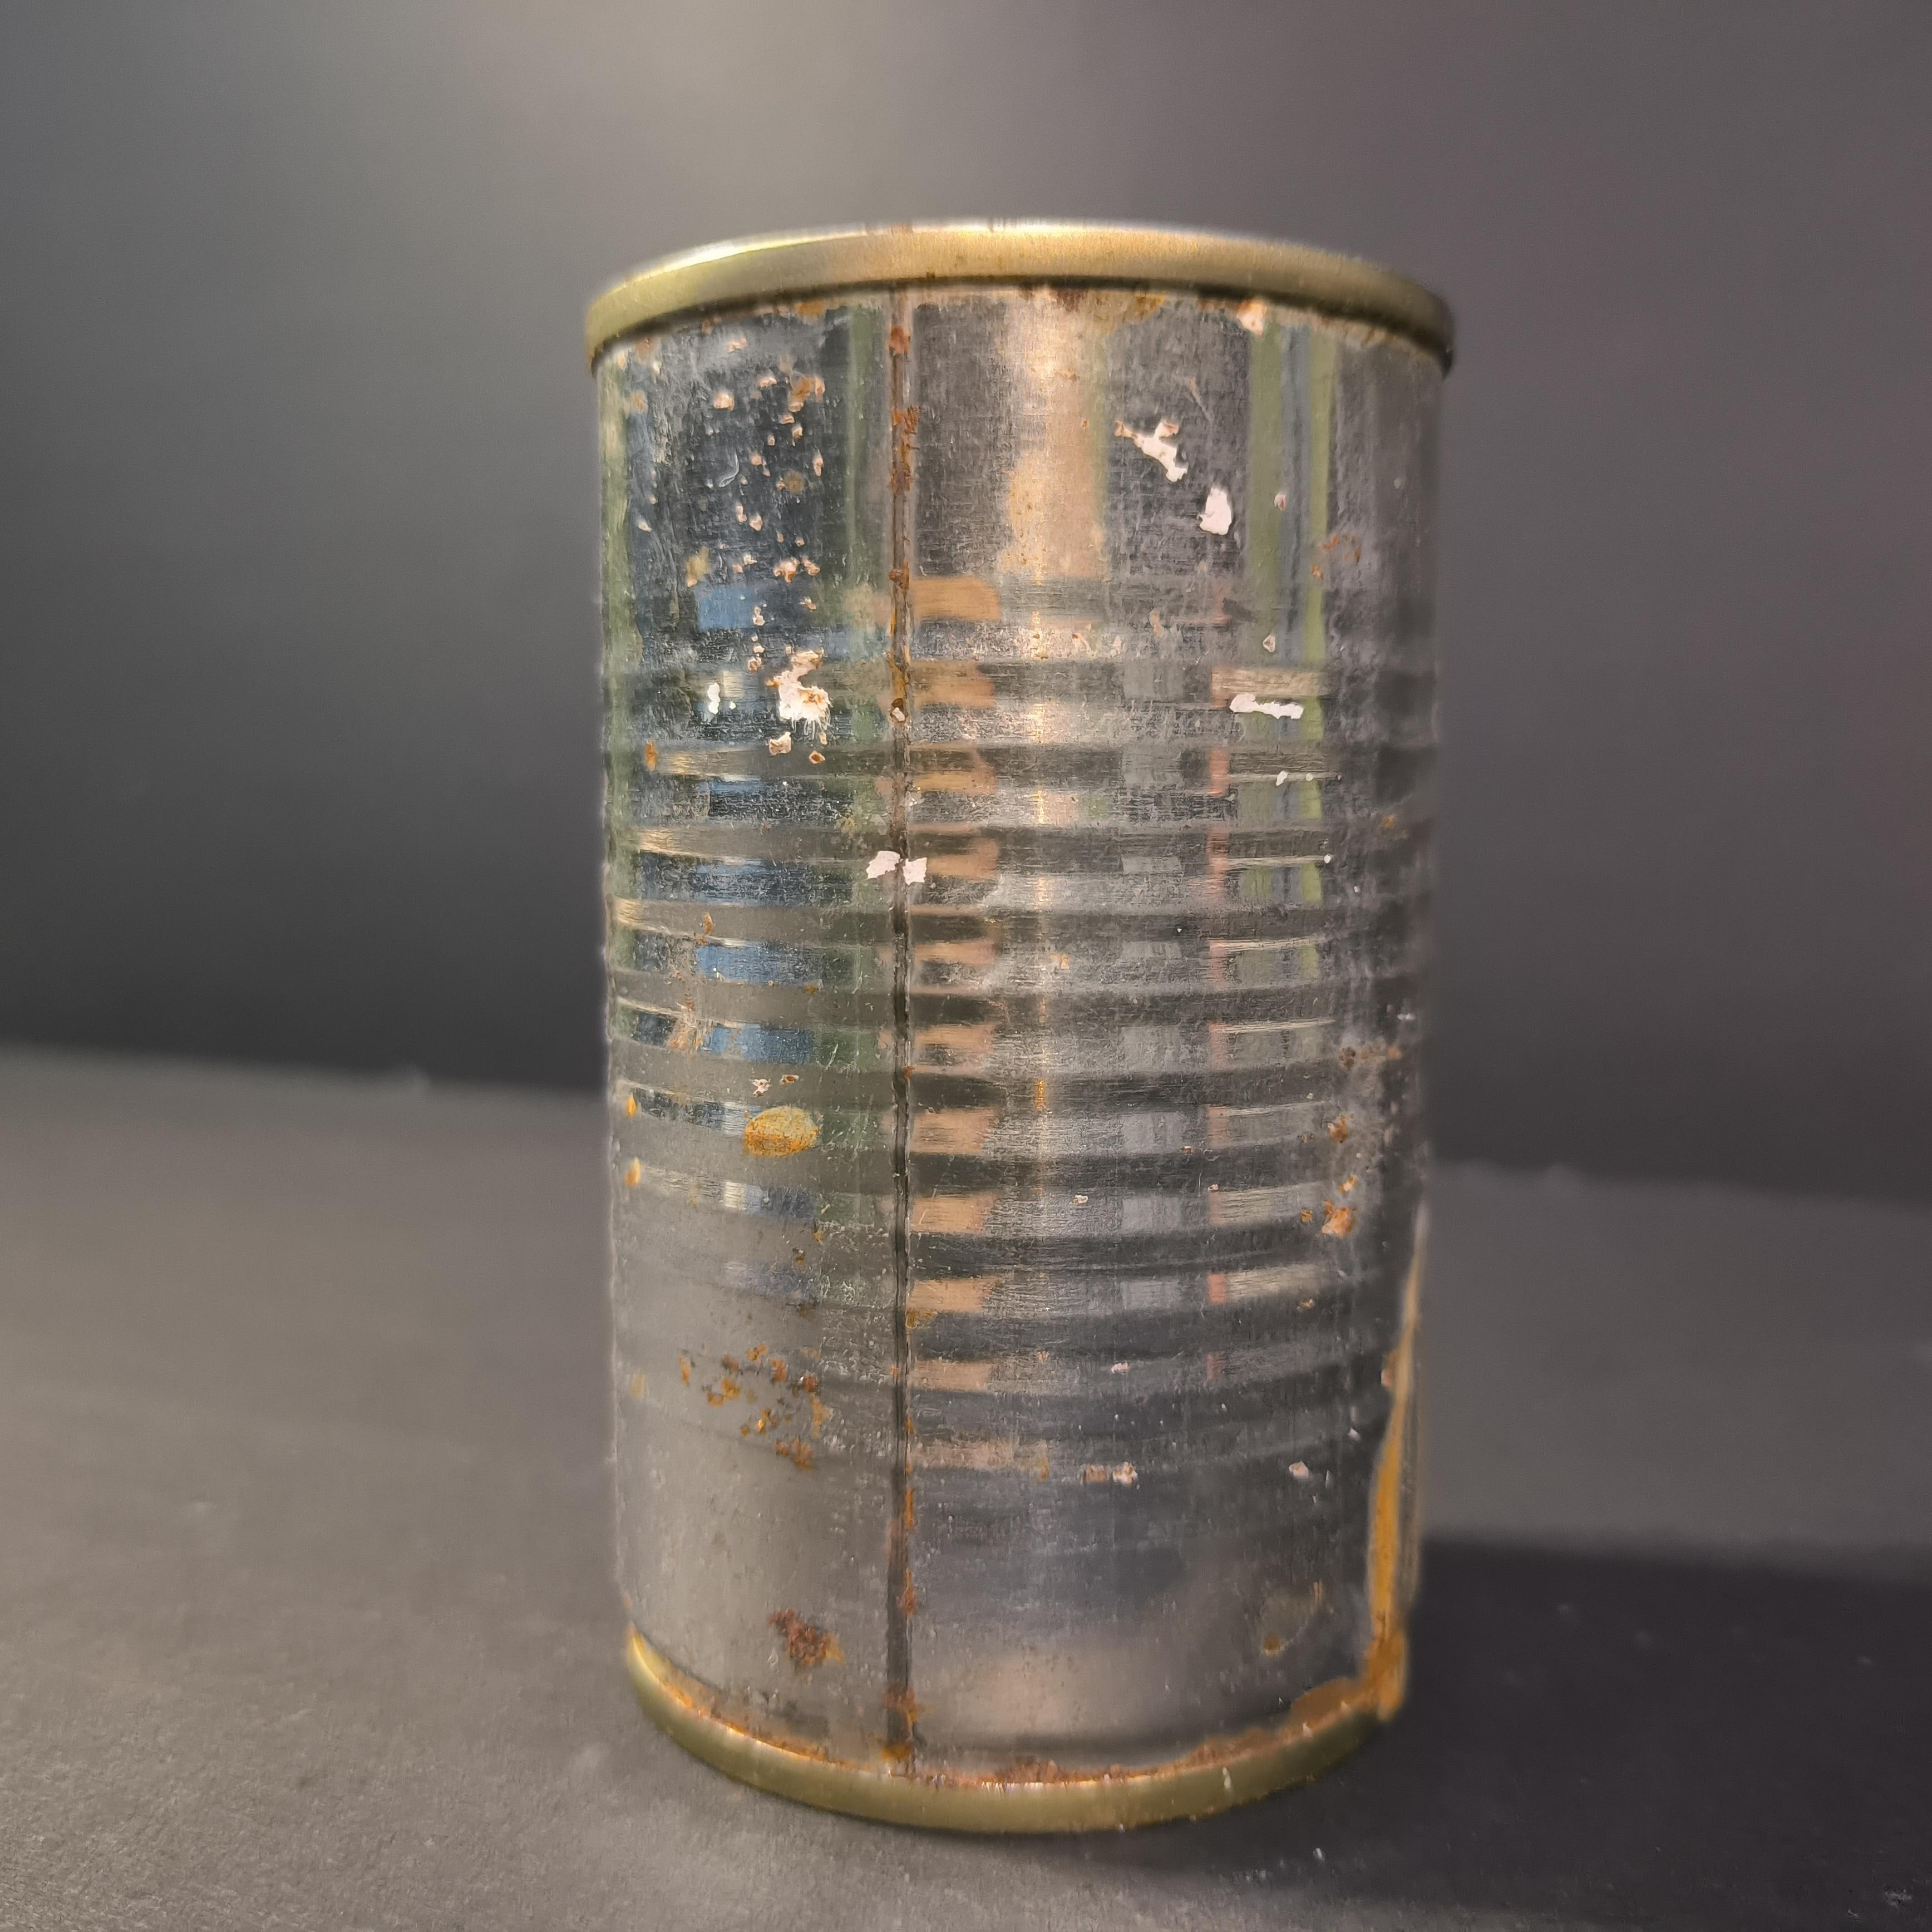Rusted: (564, 203, 1477, 1852)
